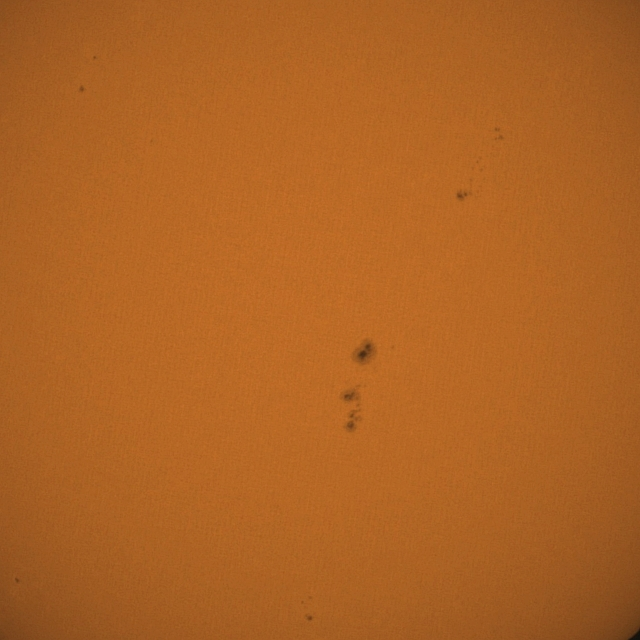sunspot: (341, 384, 366, 436), (352, 340, 373, 365), (454, 184, 480, 203), (455, 189, 470, 202), (492, 126, 504, 142), (304, 612, 314, 622), (78, 84, 86, 94), (14, 576, 21, 584), (92, 55, 98, 61)
